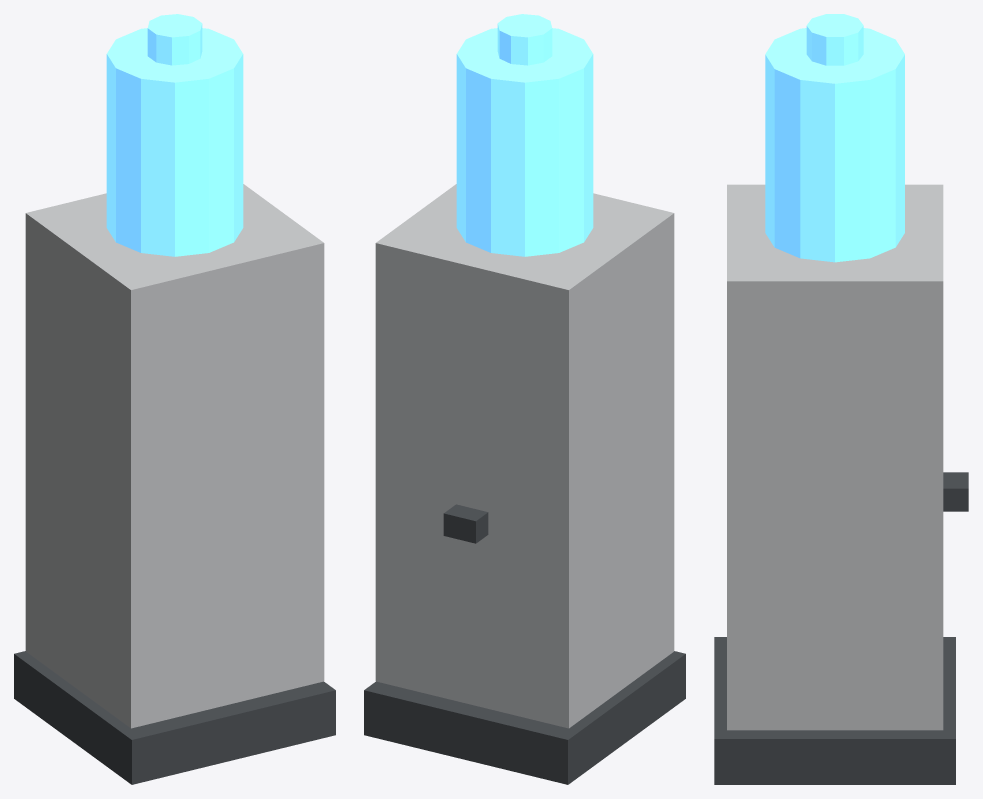
Rendered from water-cooler.glb.
The picture shows the model from 3 angles, left to right: view 1: azimuth 30°, elevation 25°; view 2: azimuth 150°, elevation 25°; view 3: azimuth 270°, elevation 25°; orthographic projection. The views are drawn at different scales.
Visible parts, largest first — view 1: WaterCooler; view 2: WaterCooler; view 3: WaterCooler.
Boxes of the visible parts, x1,y1,x2,y2 form: WaterCooler: (14, 14, 335, 784); WaterCooler: (364, 14, 685, 784); WaterCooler: (714, 14, 968, 784).
Size of the model in its own units: 0.38 by 1.23 by 0.4.
